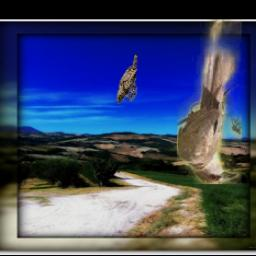Cuckoo: (178, 20, 243, 185)
Sparrow: (118, 54, 138, 105)
